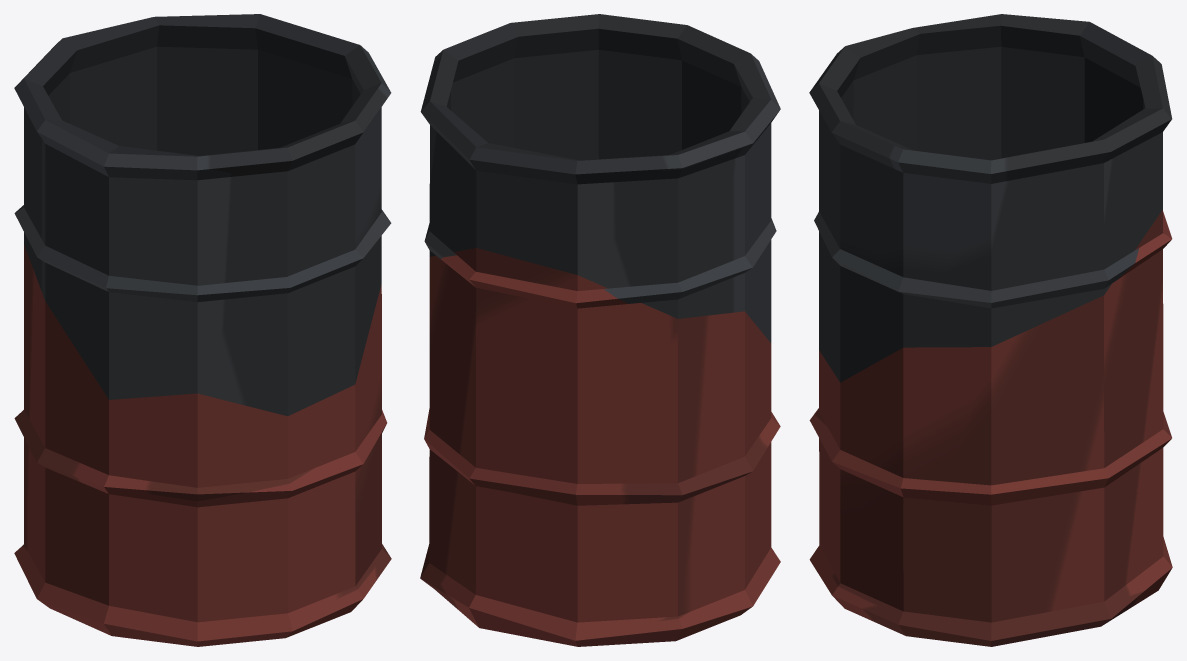
The model's file is SM_Prop_Barrel_03.fbx.
3 renders of one model, left to right at view 1: azimuth 30°, elevation 25°; view 2: azimuth 150°, elevation 25°; view 3: azimuth 270°, elevation 25°, orthographic.
Visible parts, largest first — view 1: SM_Prop_Barrel_03; view 2: SM_Prop_Barrel_03; view 3: SM_Prop_Barrel_03.
Part boxes in pixels (x1=…): SM_Prop_Barrel_03: x1=14, y1=14, x2=391, y2=646; SM_Prop_Barrel_03: x1=420, y1=14, x2=780, y2=646; SM_Prop_Barrel_03: x1=809, y1=14, x2=1172, y2=646.
Bounding box in the file's own units: 72.61 × 105 × 70.52.
